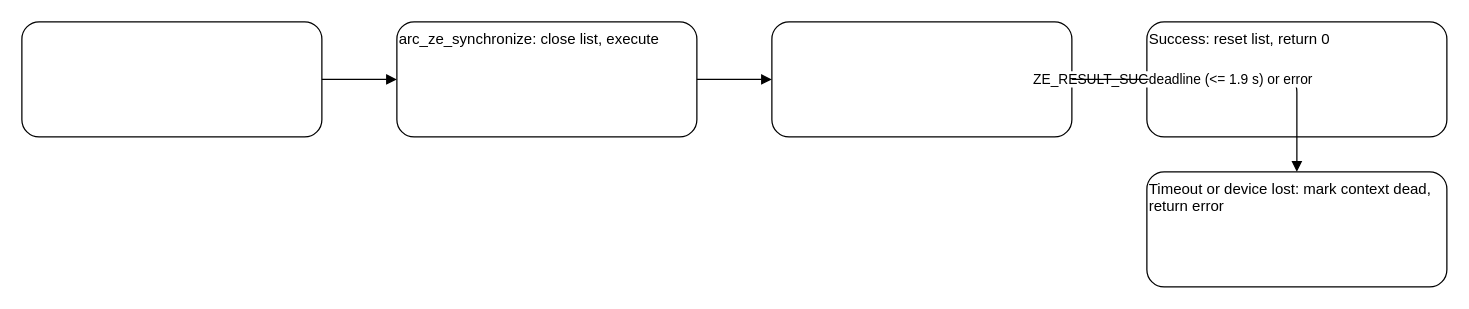
The diagram is 1469 pixels wide and 309 high, and some of its shapes have lost their labels. The centre of each missing label's shape, as x and y in pixels:
"NativeLevelZeroBridge.synchronize" goes at pixel 171 79.
"poll zeCommandQueueSynchronize in 250 ms slices" goes at pixel 921 79.
